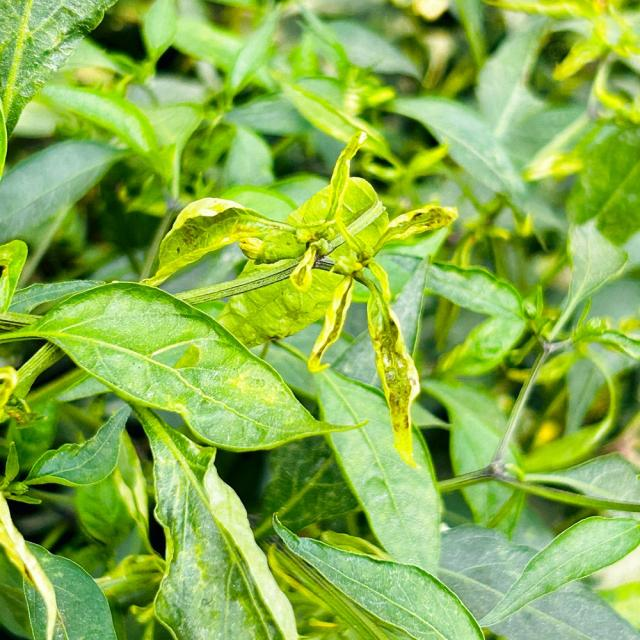Chilli_Leaf_Curl: (1, 1, 638, 638), (0, 277, 371, 638), (141, 129, 459, 467), (1, 278, 370, 454), (269, 511, 486, 638), (0, 0, 118, 179), (478, 514, 639, 628), (357, 263, 421, 468)
